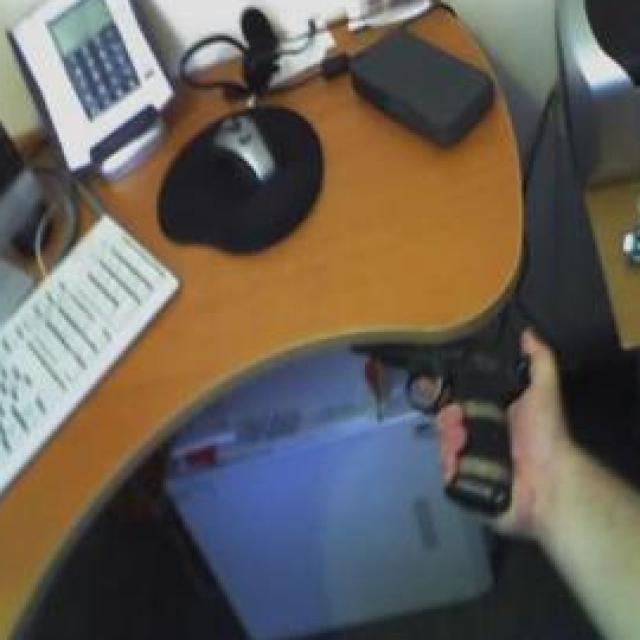pistol: (348, 320, 530, 521)
